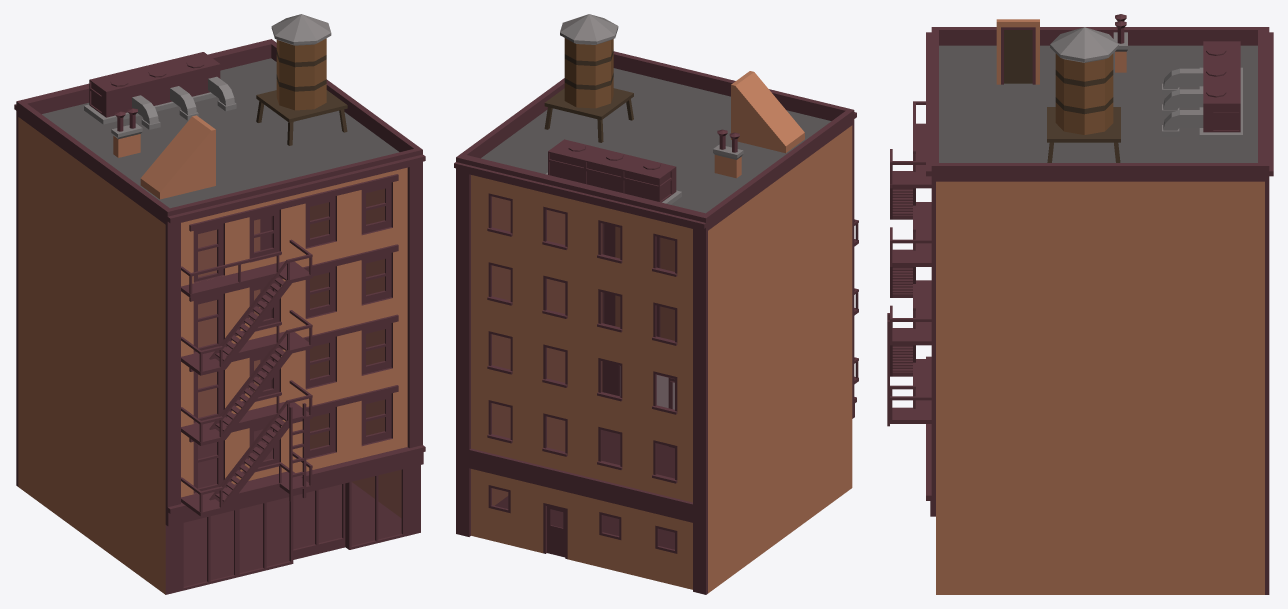
File: building-block-4floor-front.fbx
The picture shows the model from 3 angles, left to right: view 1: azimuth 30°, elevation 25°; view 2: azimuth 150°, elevation 25°; view 3: azimuth 270°, elevation 25°; orthographic projection. The views are drawn at different scales.
Visible parts, largest first — view 1: building-block-4floor-front; view 2: building-block-4floor-front; view 3: building-block-4floor-front.
Part boxes in pixels (left/top/right/bottom): building-block-4floor-front: left=14, top=14, right=425, bottom=594; building-block-4floor-front: left=454, top=14, right=858, bottom=594; building-block-4floor-front: left=887, top=14, right=1273, bottom=594.
Bounding box in the file's own units: 11.4 × 20.61 × 13.4.
